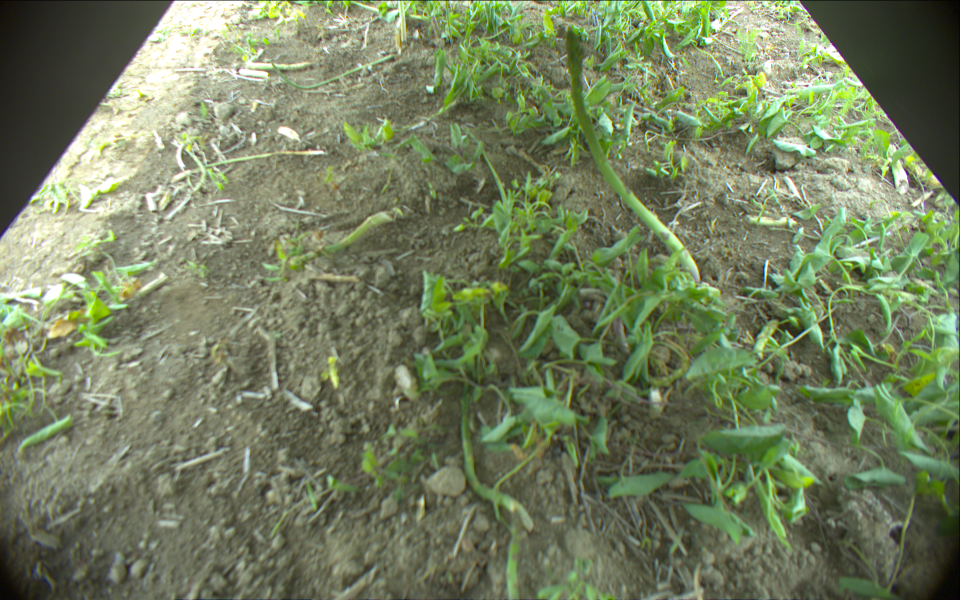aspa: (565, 28, 704, 282), (457, 390, 536, 532), (171, 152, 327, 185), (271, 50, 391, 92), (505, 507, 521, 600), (246, 56, 316, 72), (397, 1, 408, 42)
